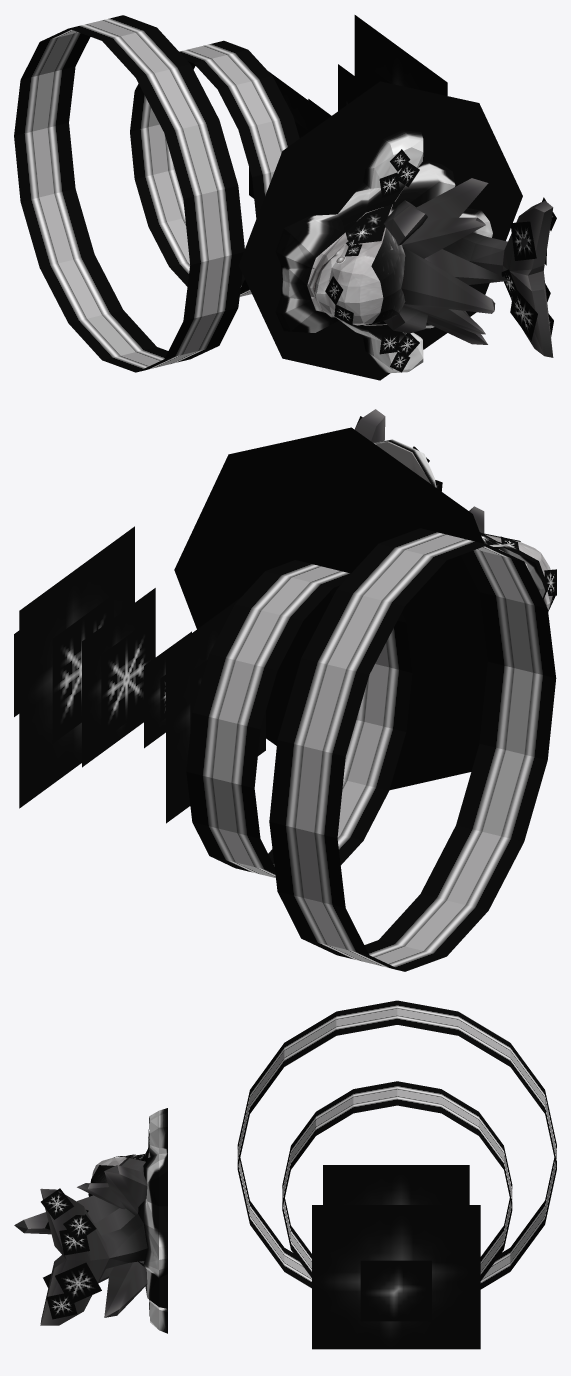
3 renders of one model, top to bottom at view 1: azimuth 30°, elevation 25°; view 2: azimuth 150°, elevation 25°; view 3: azimuth 270°, elevation 25°, orthographic. The views are drawn at different scales.
Parts seen in each view (by area): view 1: M_0010_0, M_0010_1; view 2: M_0010_0, M_0010_1; view 3: M_0010_0.
Boxes of the visible parts, bbox=[...] form: M_0010_0: bbox=[14, 15, 556, 373]; M_0010_1: bbox=[238, 81, 522, 380]; M_0010_0: bbox=[14, 409, 556, 971]; M_0010_1: bbox=[174, 427, 553, 790]; M_0010_0: bbox=[14, 1000, 556, 1349].
Size of the model in its own units: 4.42 by 4.09 by 6.96.
2 materials, 2 textured.
